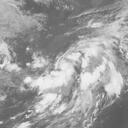cyclone: (30, 50, 118, 108)
